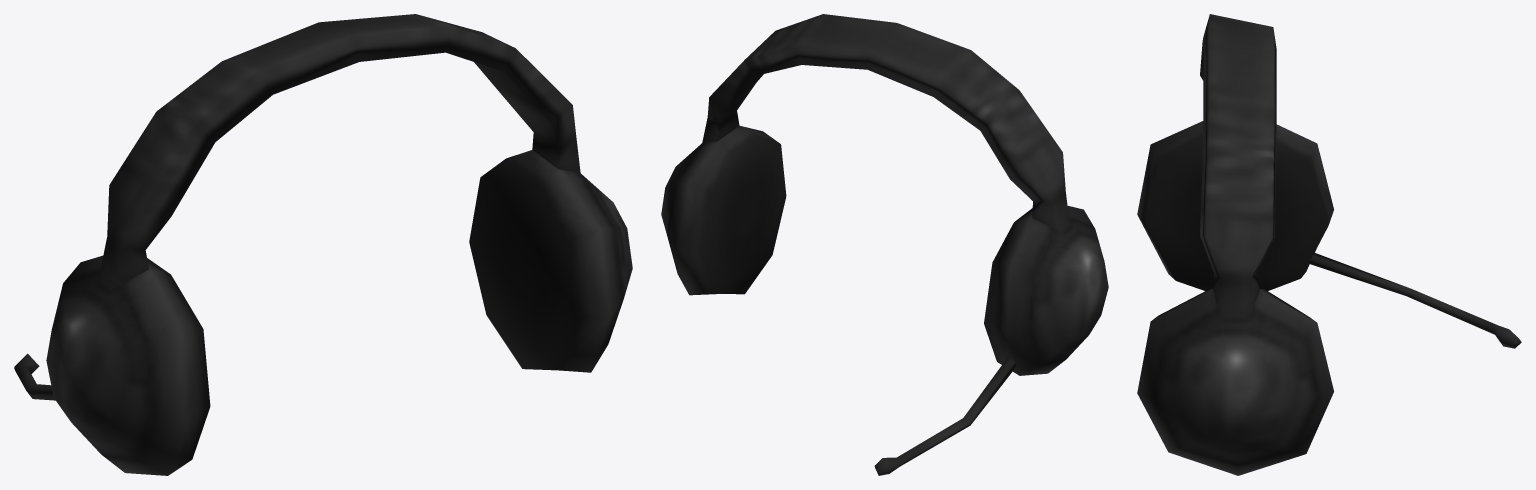
File: headphone3.glb
The picture shows the model from 3 angles, left to right: view 1: azimuth 30°, elevation 25°; view 2: azimuth 150°, elevation 25°; view 3: azimuth 270°, elevation 25°; orthographic projection. The views are drawn at different scales.
Visible parts, largest first — view 1: headphone3; view 2: headphone3; view 3: headphone3.
Boxes of the visible parts, box(x1,y1,x2,y2) form: headphone3: box(14, 14, 632, 475); headphone3: box(661, 14, 1108, 475); headphone3: box(1137, 14, 1521, 475).
Bounding box in the file's own units: 0.7475 × 0.555 × 0.5239.
Materials: 1 (1 with a texture image).
